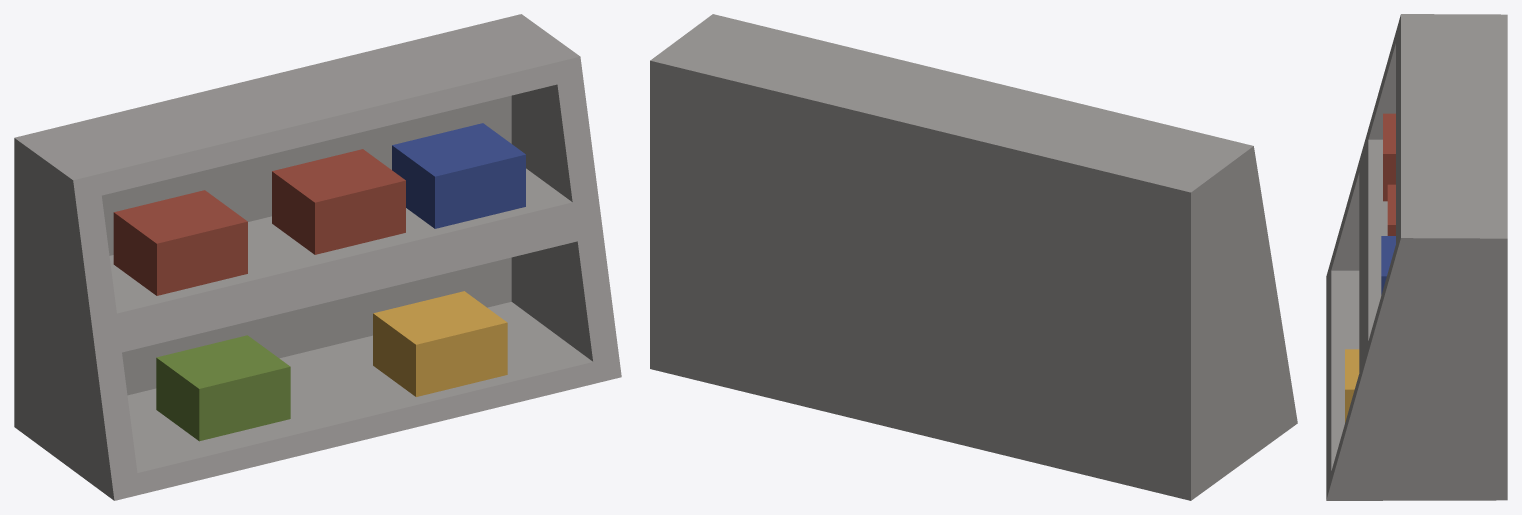
File: SM_Prop_ShopInterior_Shelf_04.fbx
The picture shows the model from 3 angles, left to right: view 1: azimuth 30°, elevation 25°; view 2: azimuth 150°, elevation 25°; view 3: azimuth 270°, elevation 25°; orthographic projection. The views are drawn at different scales.
Visible parts, largest first — view 1: SM_Prop_ShopInterior_Shelf_04; view 2: SM_Prop_ShopInterior_Shelf_04; view 3: SM_Prop_ShopInterior_Shelf_04.
Part boxes in pixels (x1=…): SM_Prop_ShopInterior_Shelf_04: x1=14, y1=14, x2=621, y2=500; SM_Prop_ShopInterior_Shelf_04: x1=650, y1=14, x2=1297, y2=500; SM_Prop_ShopInterior_Shelf_04: x1=1326, y1=14, x2=1507, y2=500.
Bounding box in the file's own units: 122 × 66.67 × 41.72.
